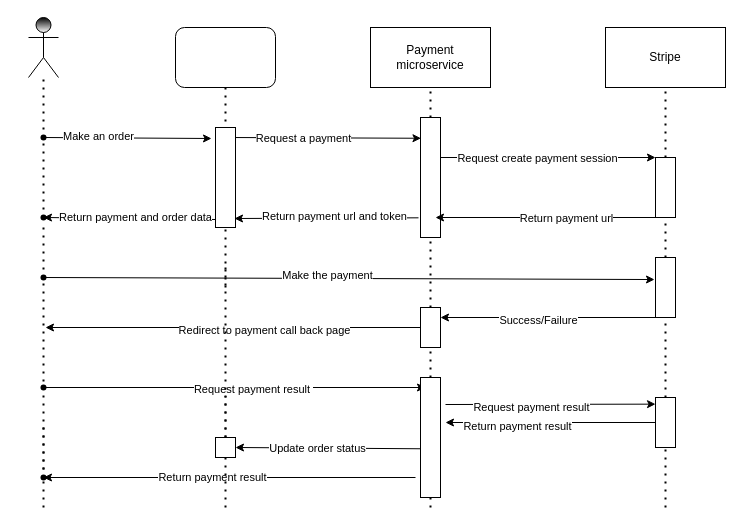
The diagram is 743 pixels wide and 527 high, and some of its shapes have lost their labels. Each missing label, with the centre of its shape:
Customer: the point at 43,47
Order microservice: the point at 225,57
